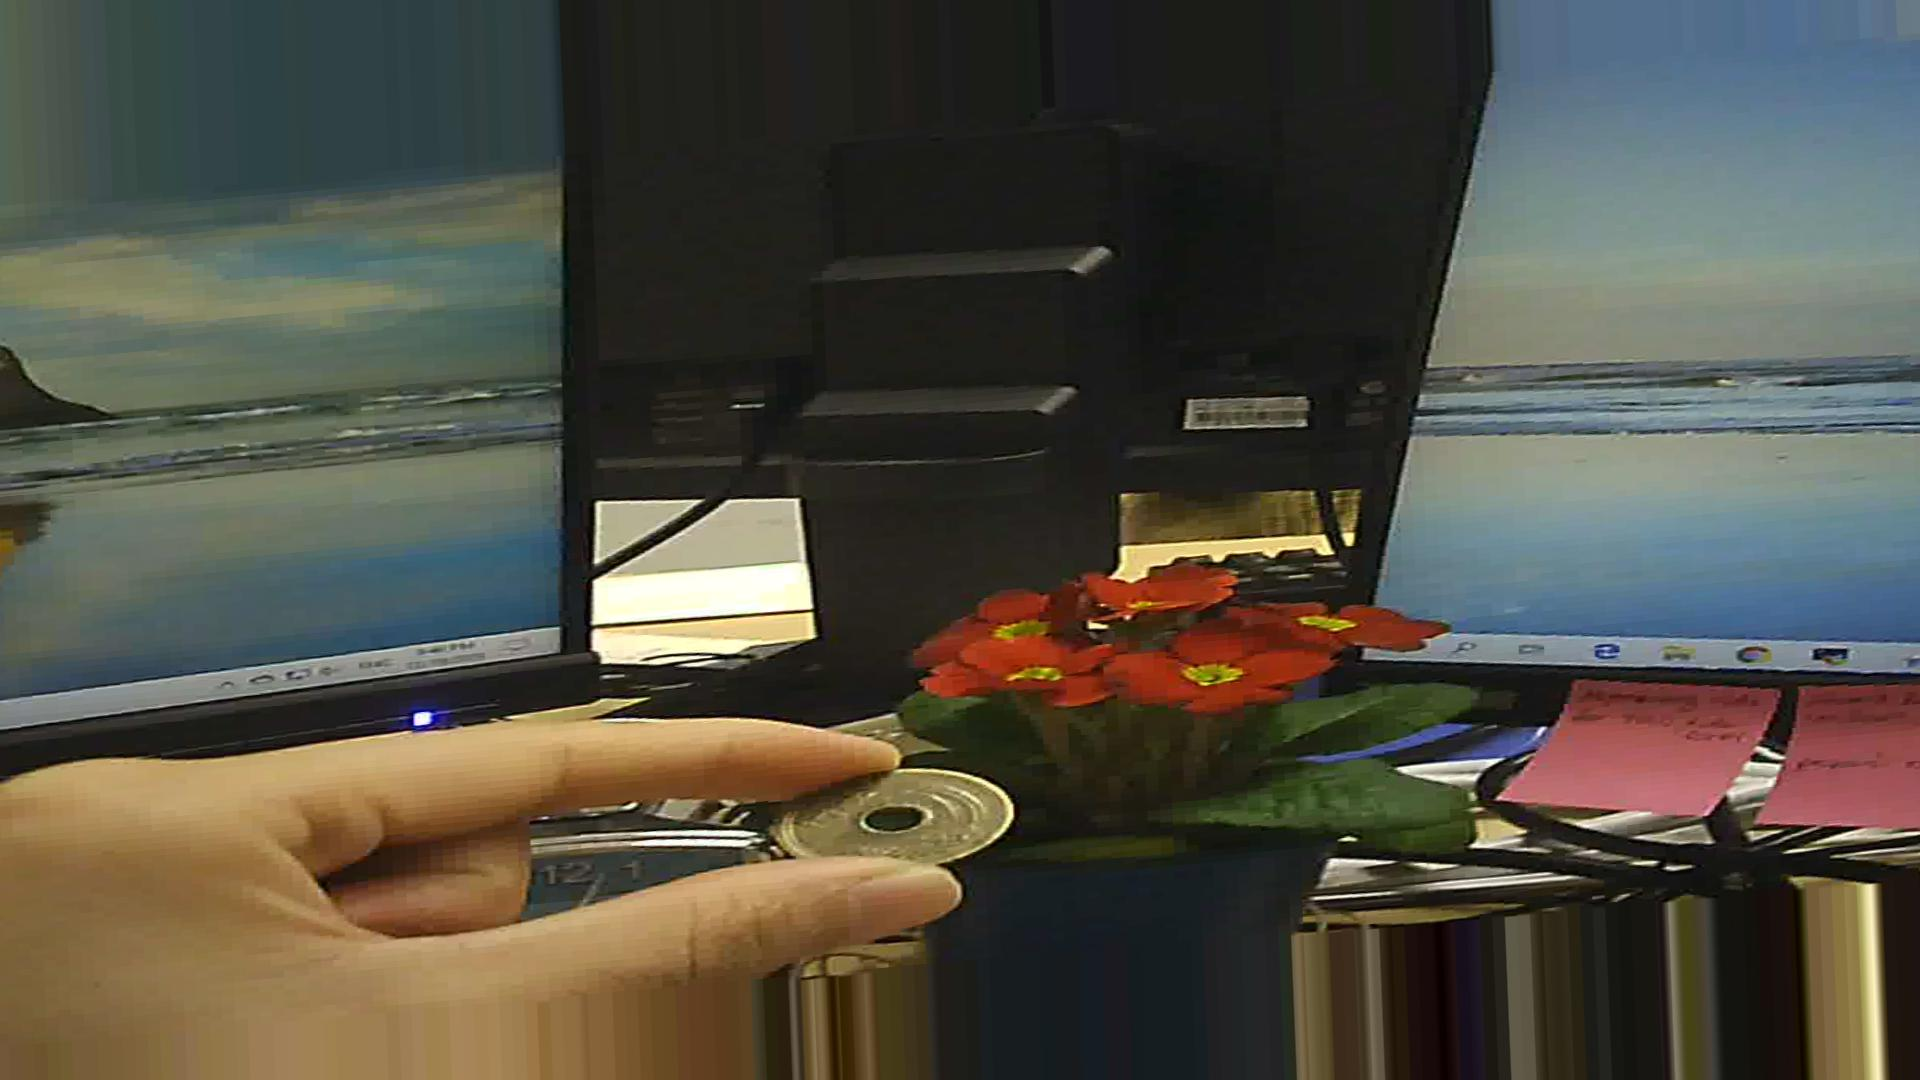5 Yen: (757, 764, 1018, 887)
